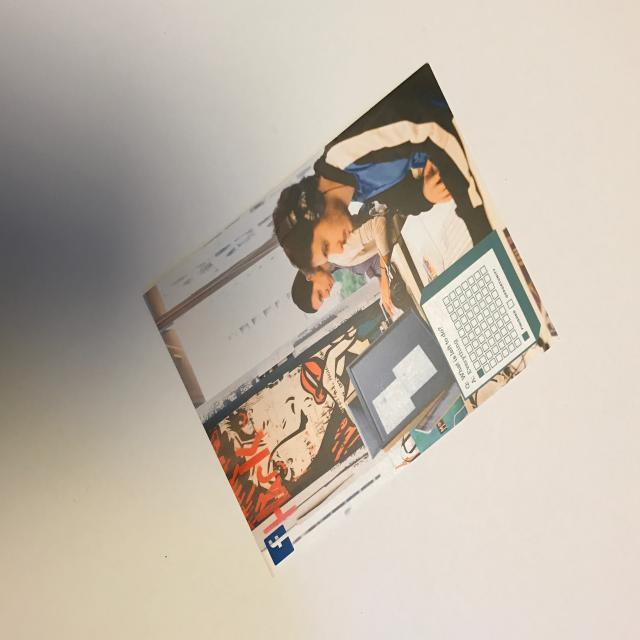paper: (138, 58, 562, 579)
